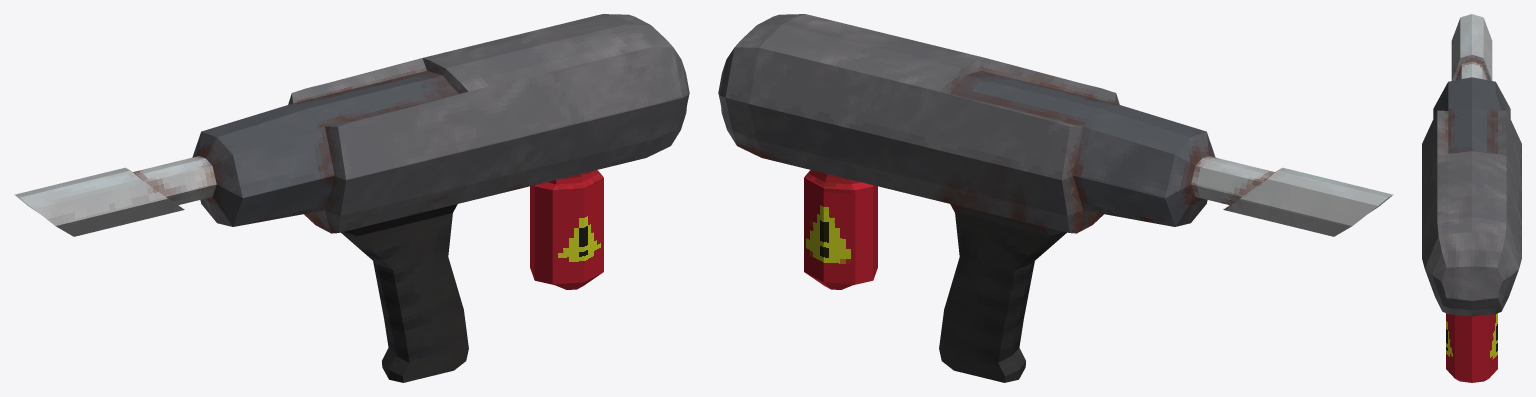
The model's file is blowtorch.glb.
3 views of the same model, side by side, from view 1: azimuth 30°, elevation 25°; view 2: azimuth 150°, elevation 25°; view 3: azimuth 270°, elevation 25° (orthographic). The views are drawn at different scales.
Parts seen in each view (by area): view 1: Cube.001; view 2: Cube.001; view 3: Cube.001.
Boxes of the visible parts, x1,y1,x2,y2 form: Cube.001: (14,14,689,382); Cube.001: (718,14,1393,382); Cube.001: (1422,14,1521,382).
Size of the model in its own units: 3.27 by 1.43 by 0.5811.
1 material, 1 textured.
